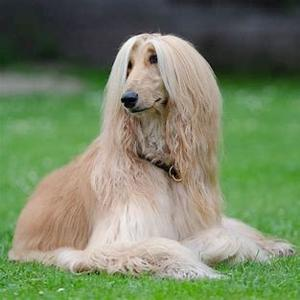dog: (99, 40, 253, 268)
